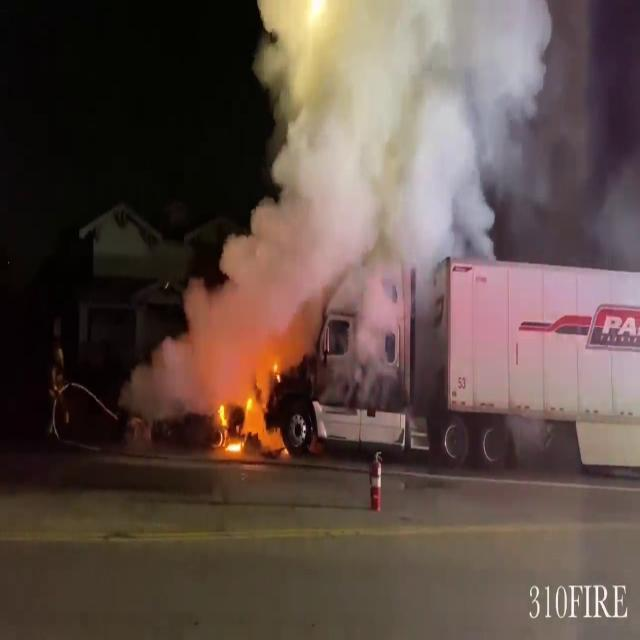Fire: (211, 370, 289, 460)
Smoke: (246, 0, 640, 283)
